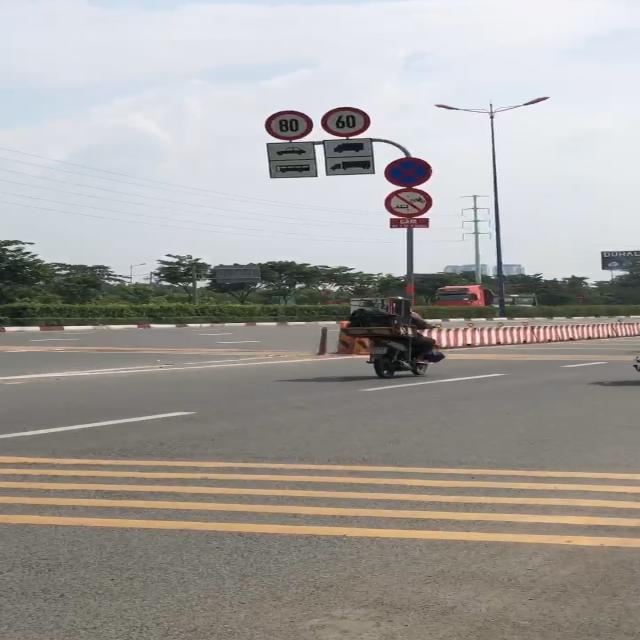Bien bao cam dung xe va do xe: (383, 156, 438, 187)
Bien bao toc do toi da cho phep: (318, 105, 374, 137), (263, 109, 315, 142)
